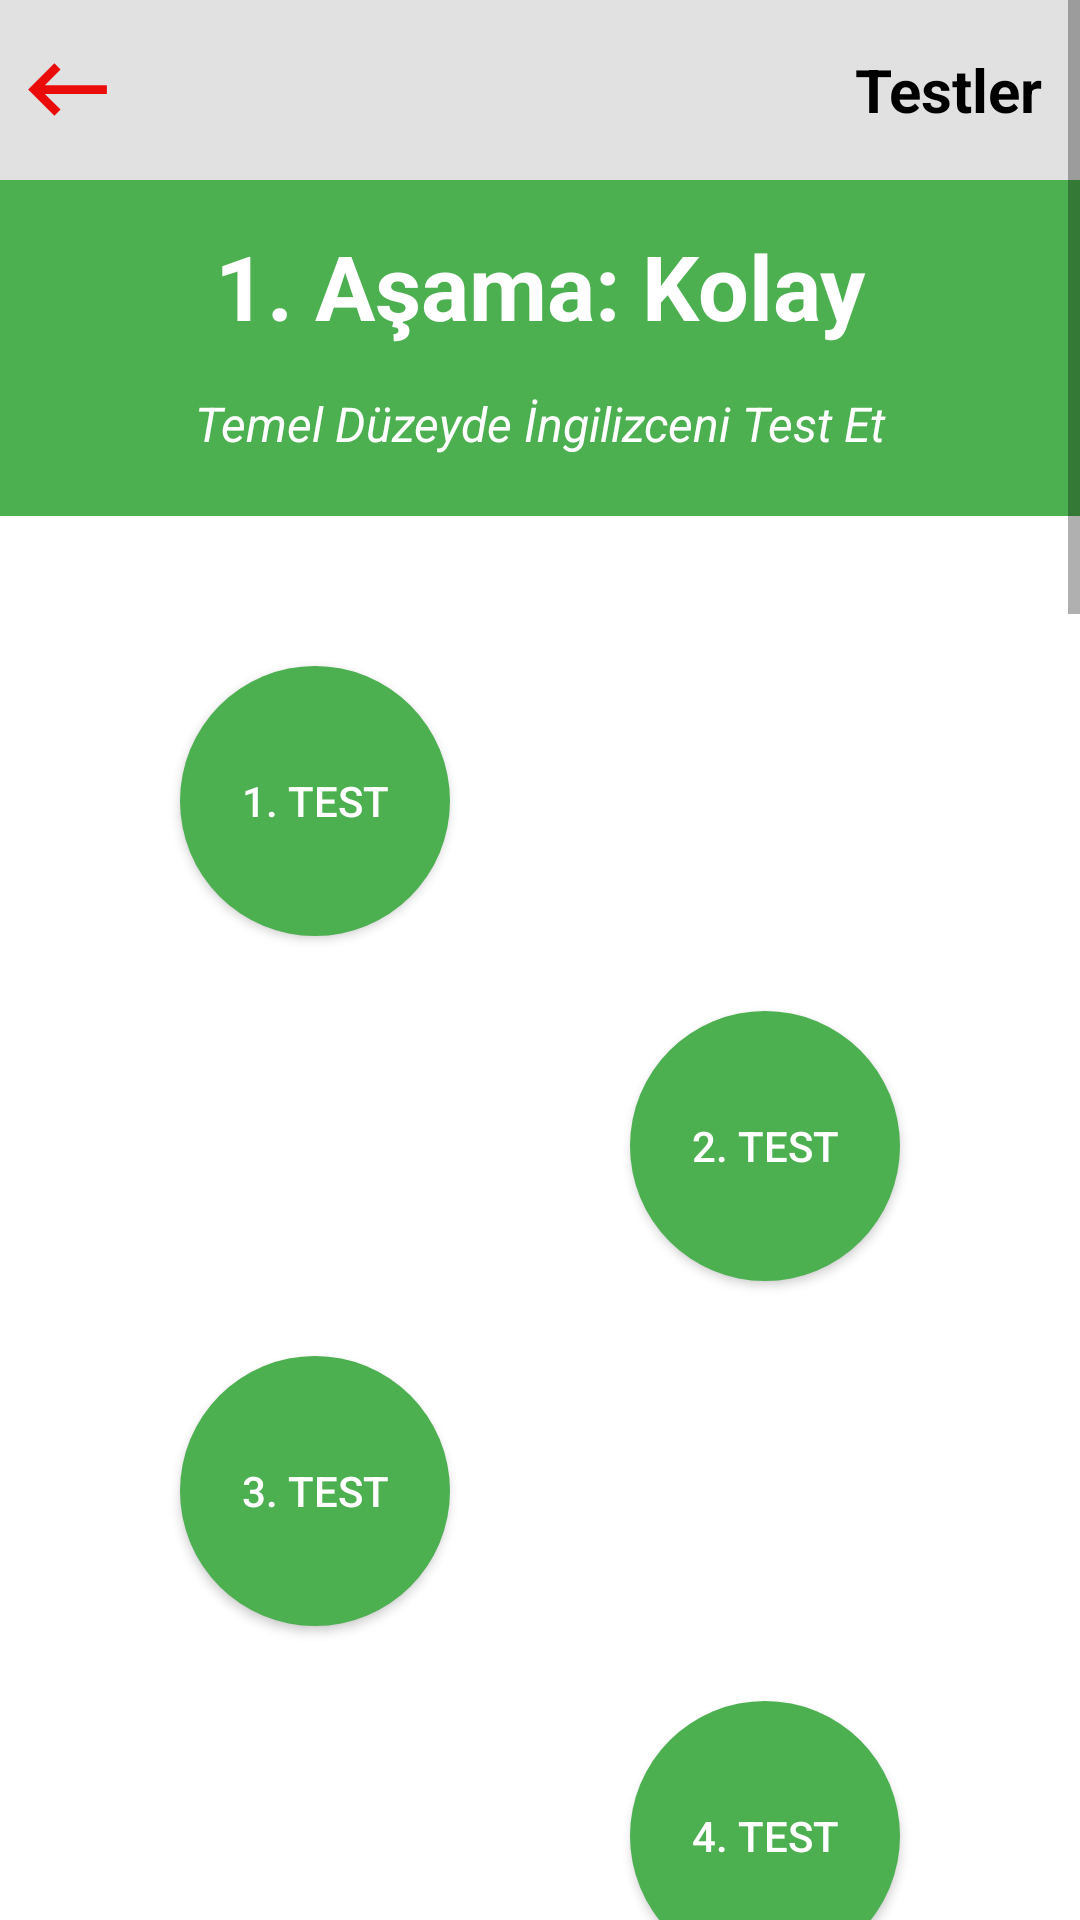

Where to tap for icons on this 1080 × 1920 app screen, as (x,y):
back: (67,89)
